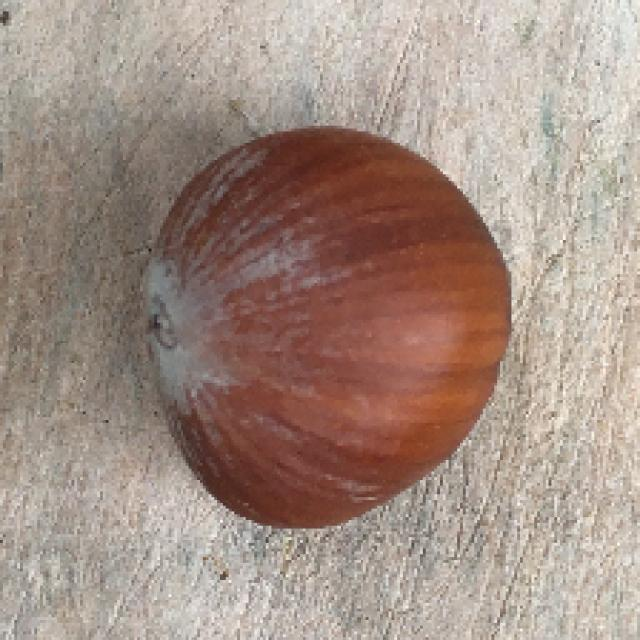qualityHazelnut: (119, 123, 518, 534)
